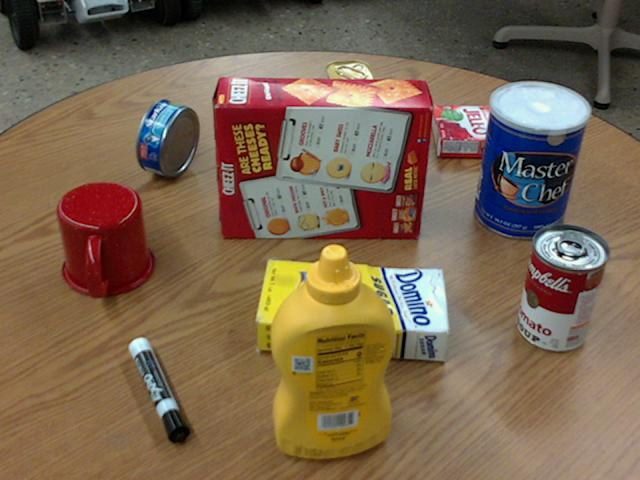cracker_box: (214, 77, 430, 238)
gelatin_box: (433, 103, 499, 156)
large_marker: (128, 337, 187, 441)
master_chef_can: (474, 81, 588, 238)
mug: (57, 182, 155, 295)
mustard_bottle: (269, 244, 393, 457)
potted_meat_can: (326, 59, 382, 156)
sugar_box: (255, 258, 448, 362)
tomato_soup_can: (517, 224, 608, 351)
tuna_fish_can: (136, 100, 197, 177)
